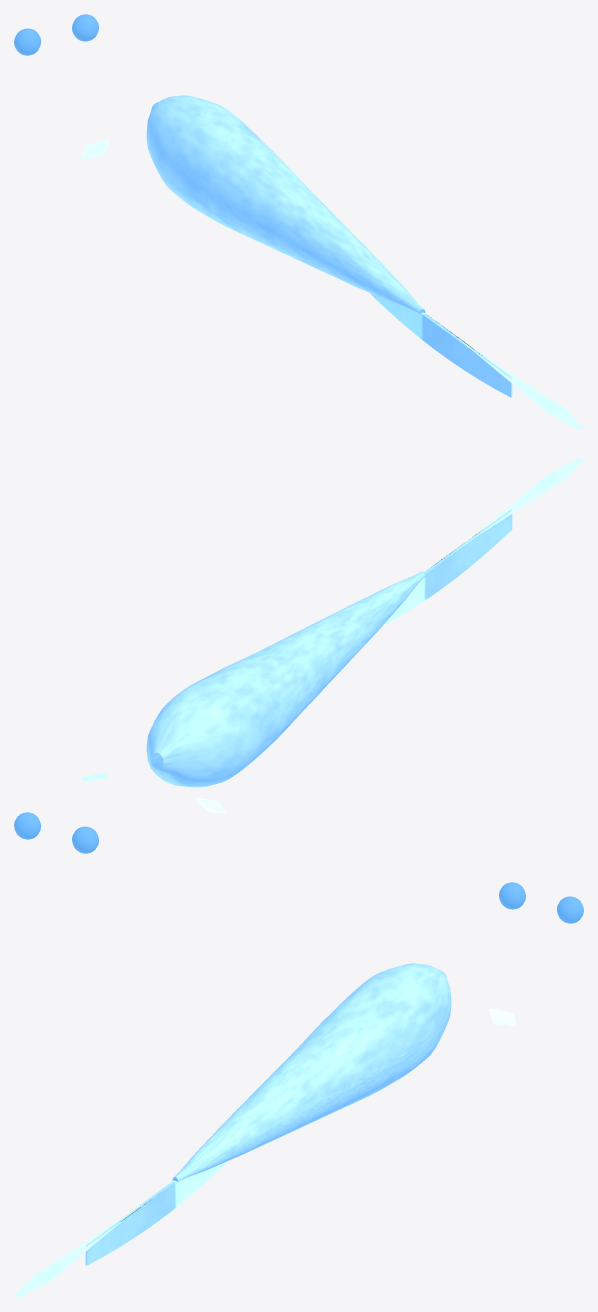
Rendered from chlamydoselachus_anguineus.glb.
3 renders of one model, top to bottom at view 1: azimuth 30°, elevation 25°; view 2: azimuth 150°, elevation 25°; view 3: azimuth 330°, elevation 25°, orthographic.
Parts seen in each view (by area): view 1: chlamydoselachus_anguineus; view 2: chlamydoselachus_anguineus; view 3: chlamydoselachus_anguineus.
Boxes of the visible parts, bbox=[...] form: chlamydoselachus_anguineus: bbox=[14, 14, 583, 429]; chlamydoselachus_anguineus: bbox=[14, 458, 583, 853]; chlamydoselachus_anguineus: bbox=[14, 882, 583, 1297].
Bounding box in the file's own units: 0.3189 × 0.1889 × 2.
2 materials, 2 textured.
